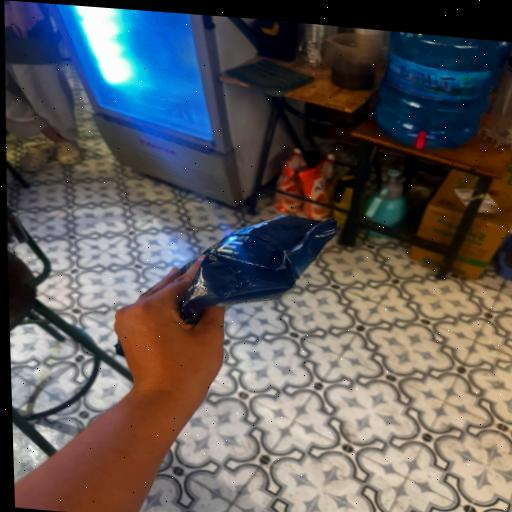cafe_hat: (182, 215, 338, 324)
